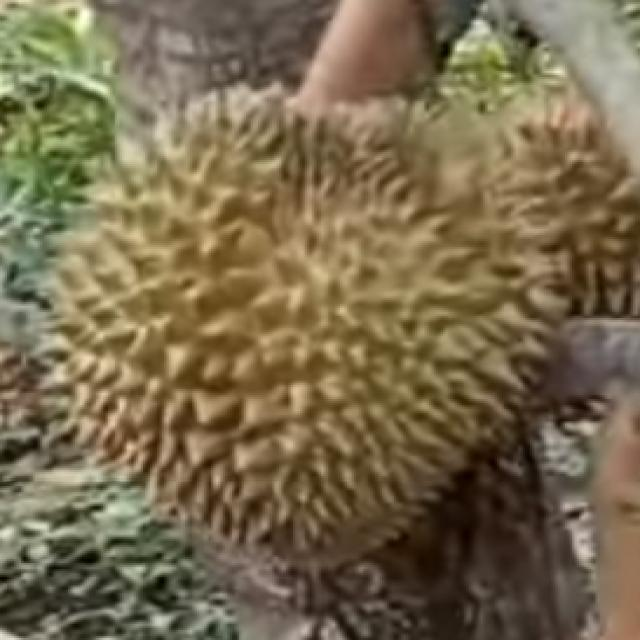mature: (44, 81, 561, 574)
